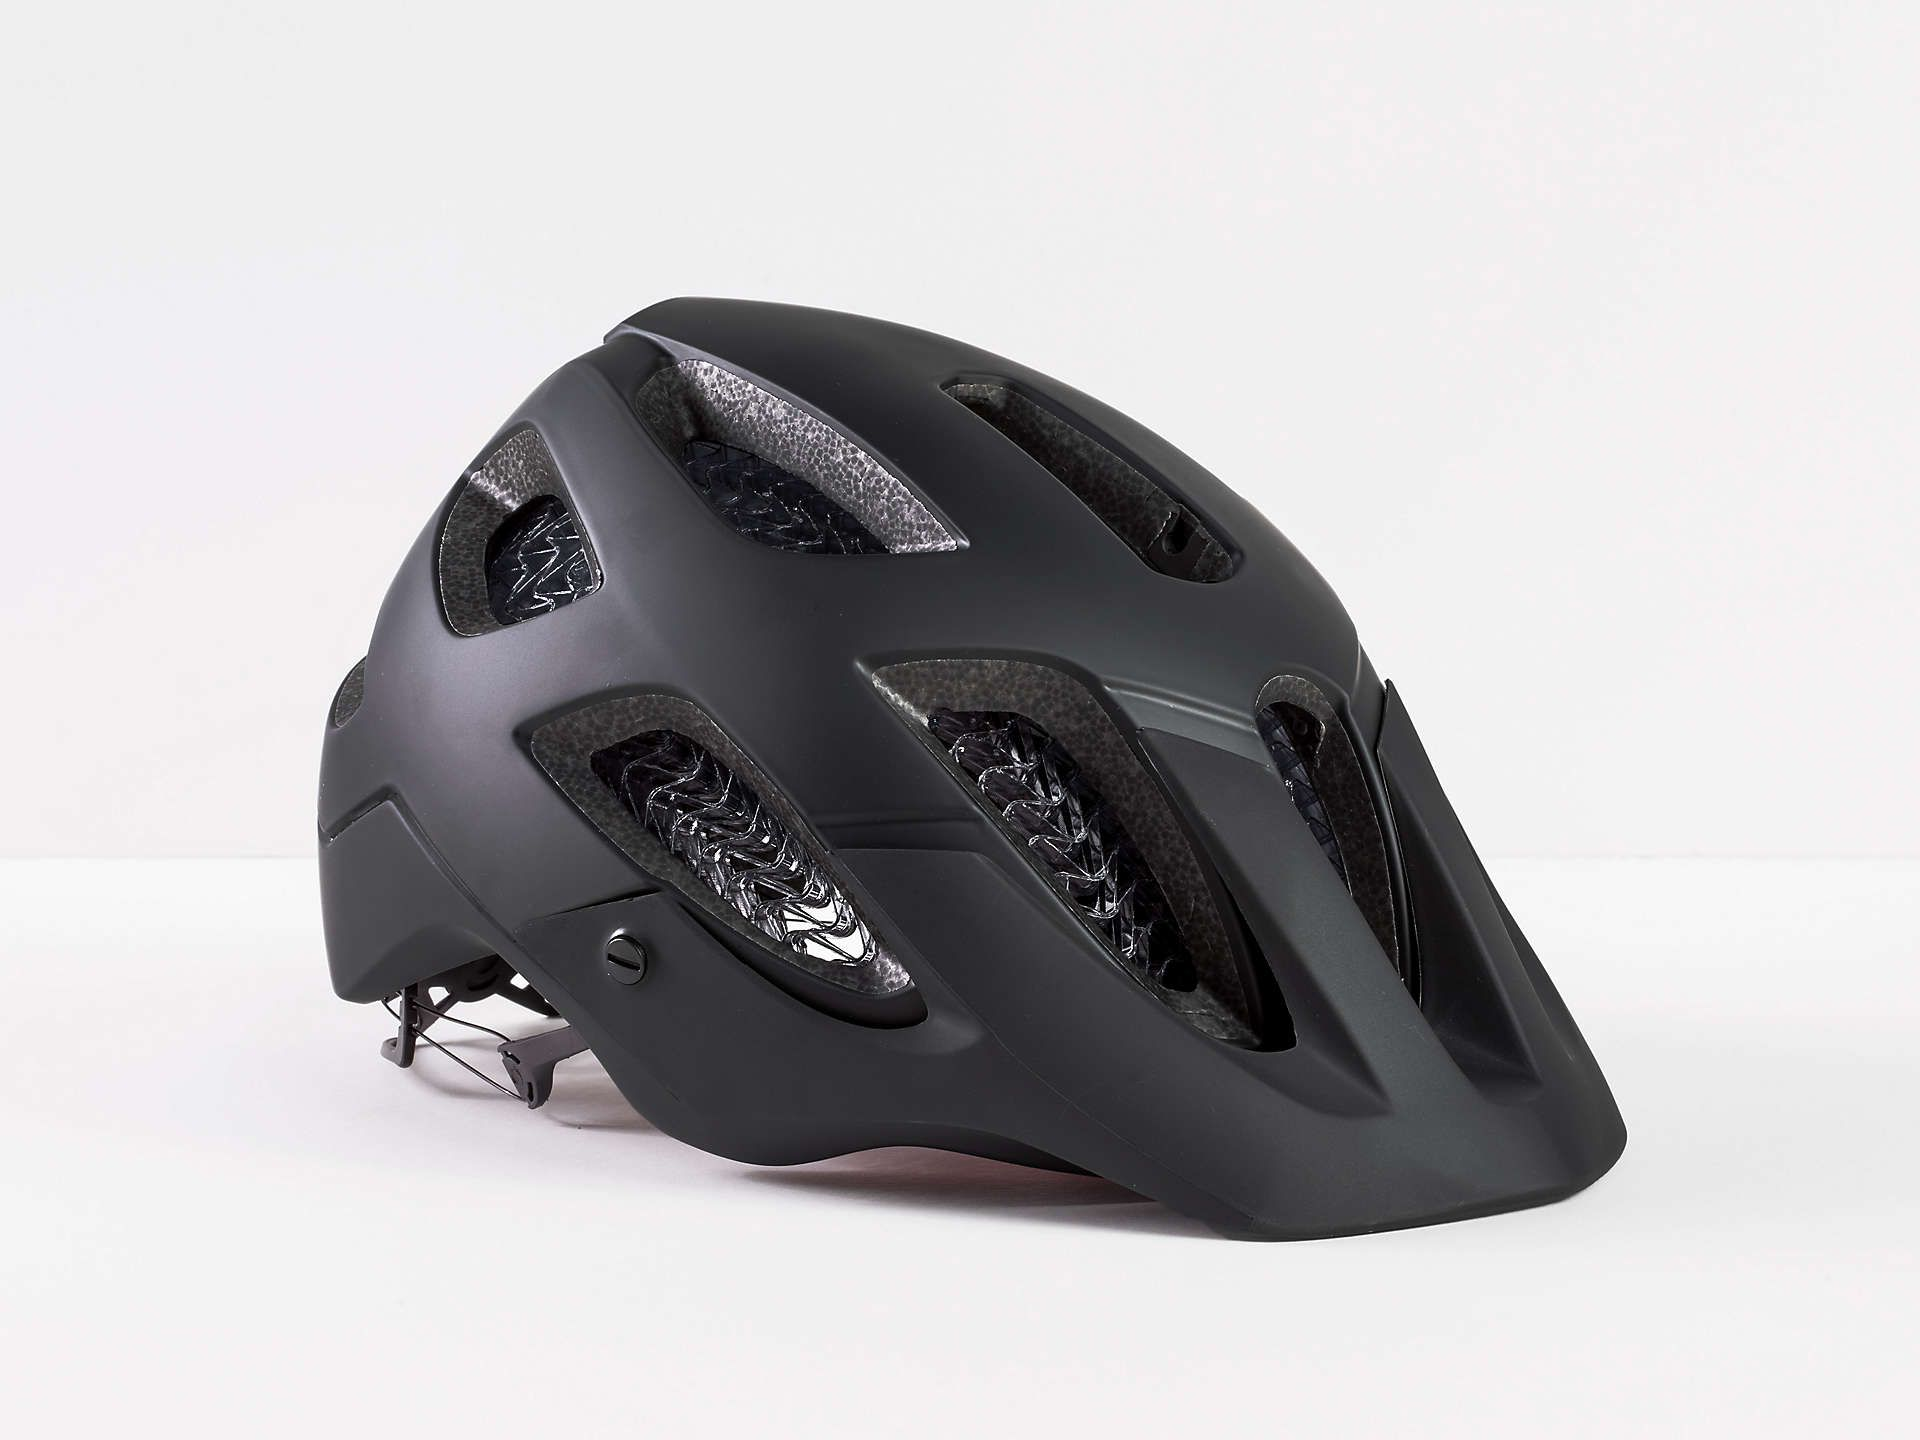with_helmet: (308, 266, 1645, 1254)
